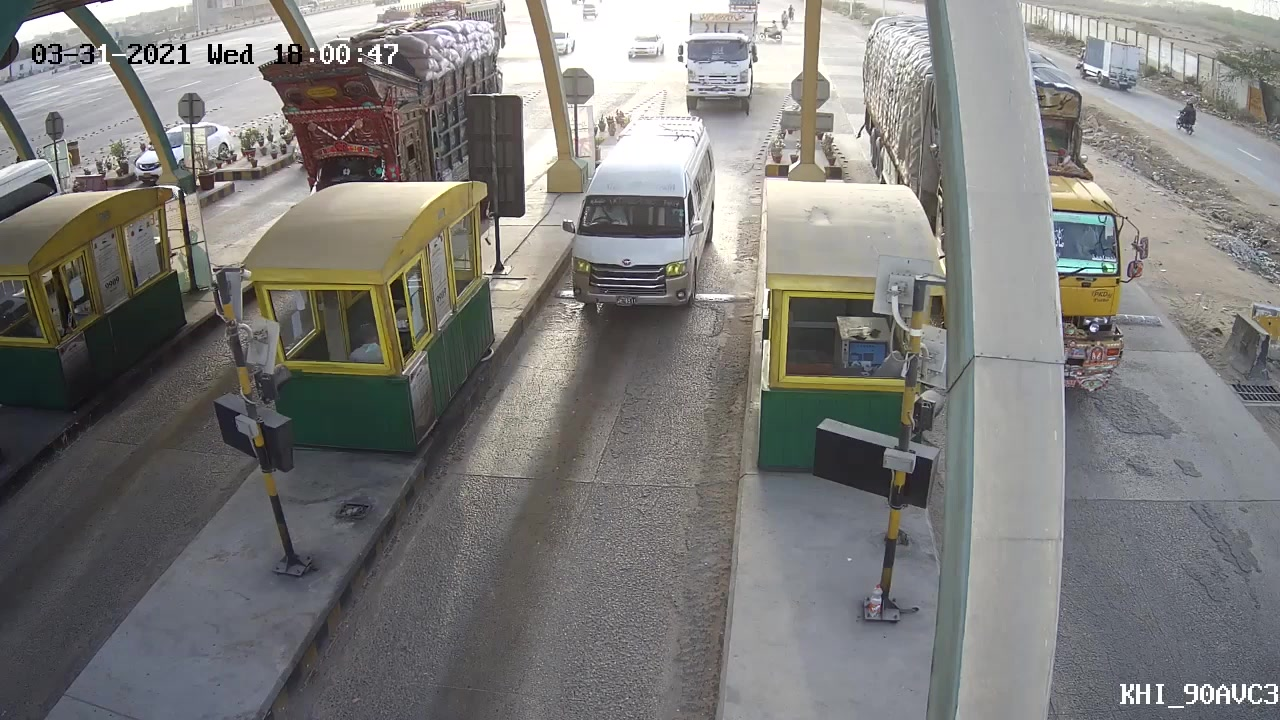F2: (551, 114, 724, 318)
